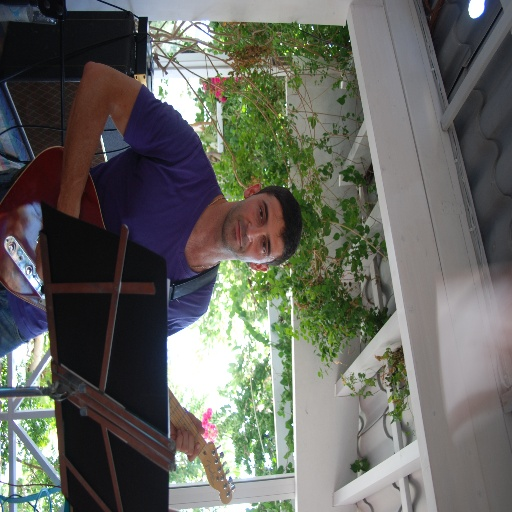hand: (169, 407, 204, 461), (34, 227, 47, 282)
